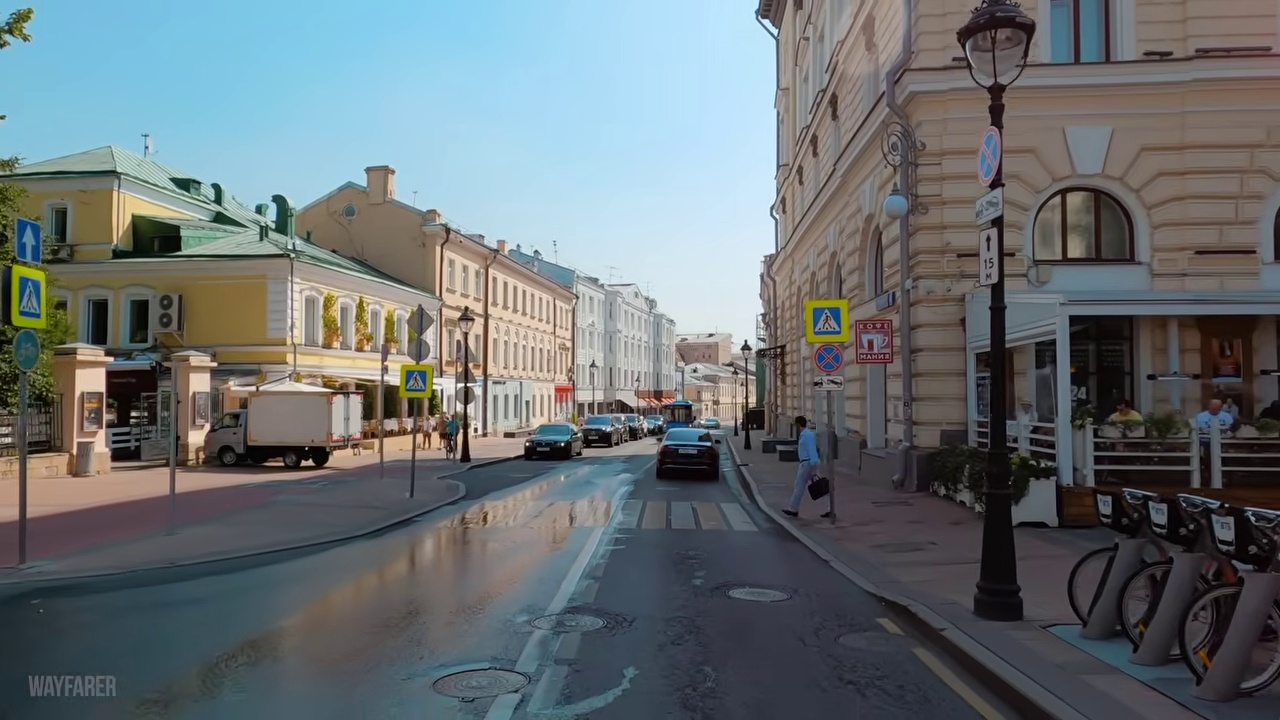apagada: (959, 16, 1027, 90)
